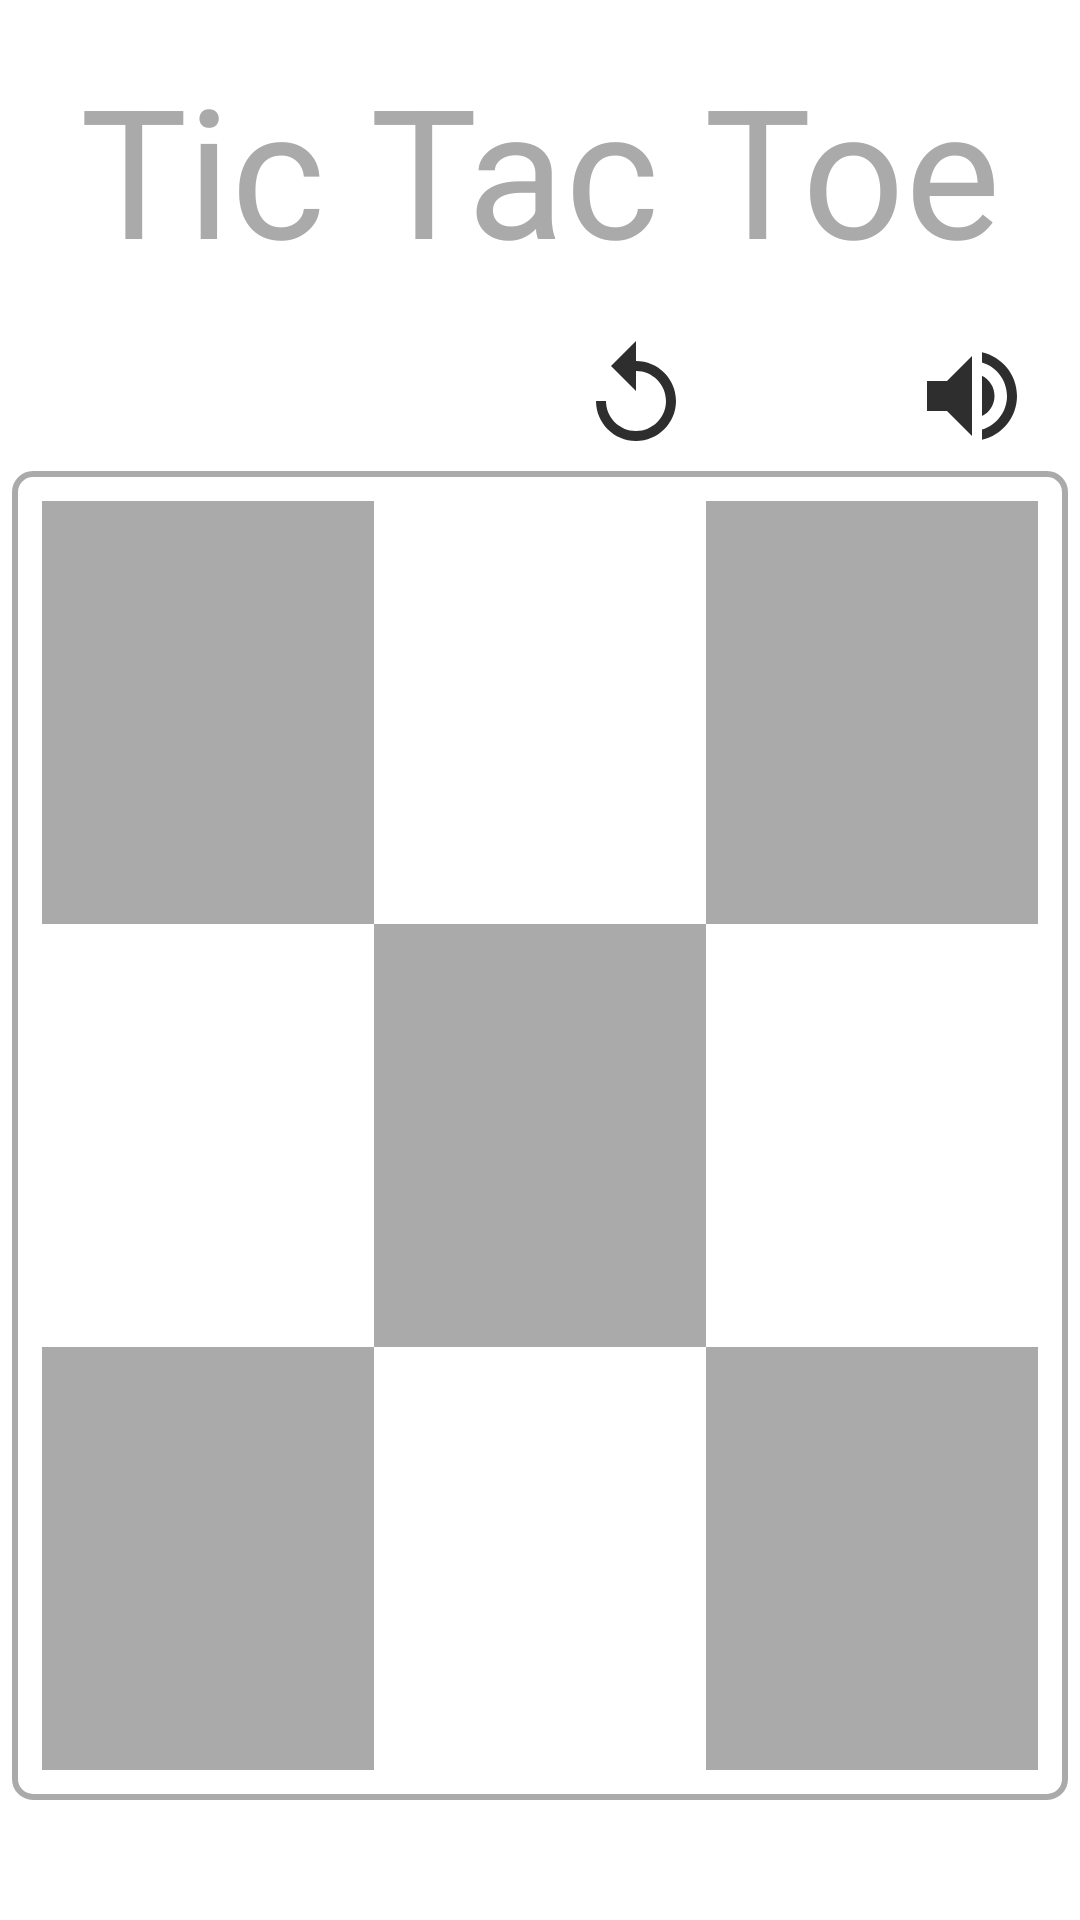

Icons on this 1080x1920 Android screen, each with the point to tap as (x,y):
replay: (636,391)
volume up: (972,396)
